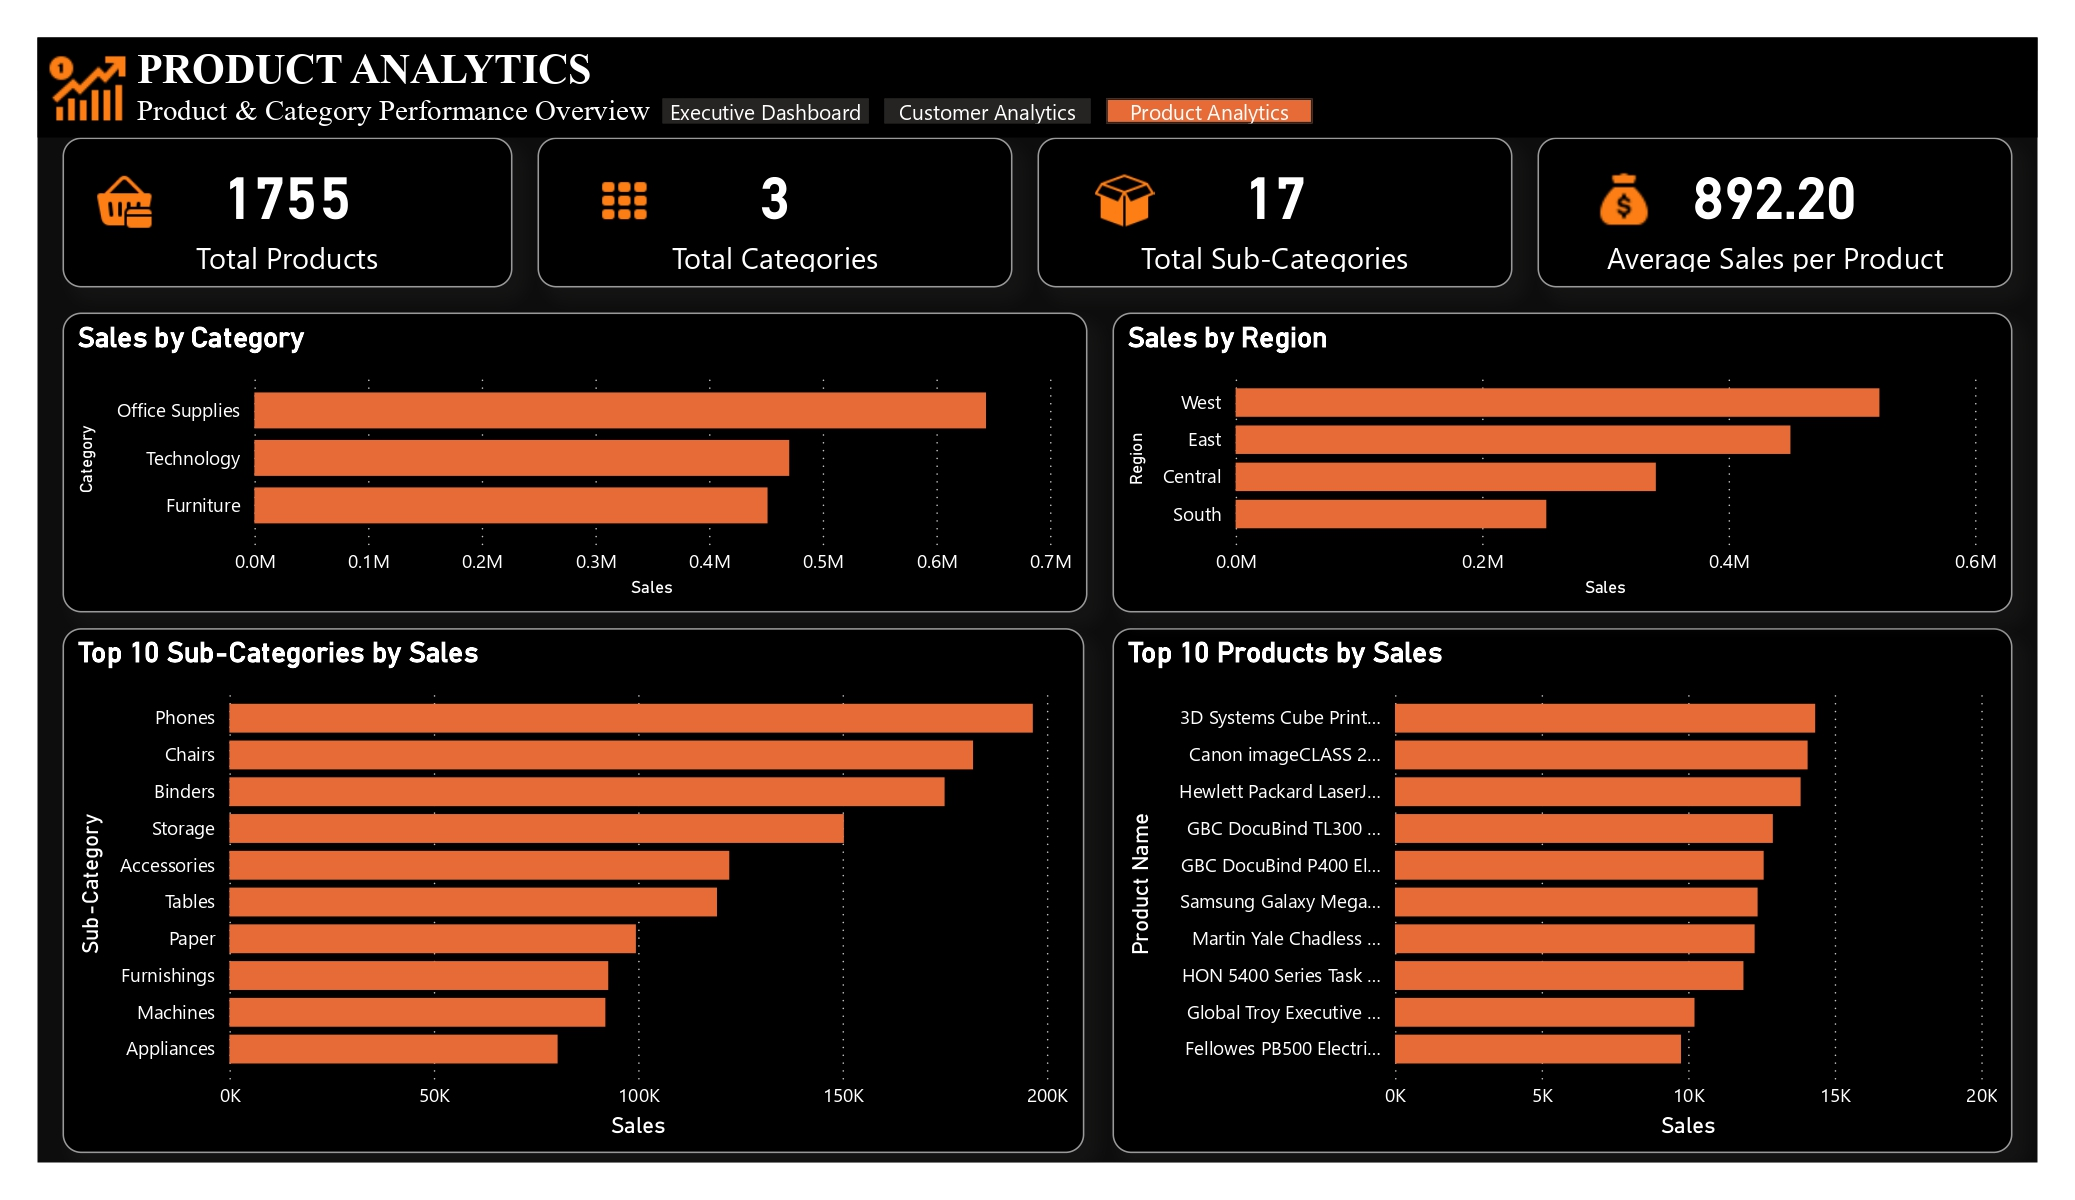

What the dashboard file says about the page in this screenshot:
{"tool":"powerbi","page":{"name":"Product Analytics","canvas":[1280,720],"ordinal":2},"visuals":[{"type":"card","fields":{"Values":["SuperStore_Sales_Dataset.Total Products"]},"box":[16,64,288,96],"z":0},{"type":"card","fields":{"Values":["SuperStore_Sales_Dataset.Total Categories"]},"box":[320,64,304,96],"z":1000},{"type":"card","fields":{"Values":["SuperStore_Sales_Dataset.Total Sub-Categories"]},"box":[640,64,304,96],"z":2000},{"type":"card","fields":{"Values":["SuperStore_Sales_Dataset.Average Sales per Product"]},"box":[960,64,304,96],"z":3000},{"type":"clusteredBarChart","title":"Sales by Category","fields":{"Category":["SuperStore_Sales_Dataset.Category"],"Y":["Sum(SuperStore_Sales_Dataset.Sales)"]},"box":[16,176,656,192],"z":4000},{"type":"clusteredBarChart","title":"Top 10 Sub-Categories by Sales","fields":{"Category":["SuperStore_Sales_Dataset.Sub-Category"],"Y":["Sum(SuperStore_Sales_Dataset.Sales)"]},"box":[16,378,654,336],"z":5000},{"type":"clusteredBarChart","title":"Top 10 Products by Sales","fields":{"Category":["SuperStore_Sales_Dataset.Product Name"],"Y":["Sum(SuperStore_Sales_Dataset.Sales)"]},"box":[688,378,576,336],"z":6000},{"type":"clusteredBarChart","title":"Sales by Region","fields":{"Category":["SuperStore_Sales_Dataset.Region"],"Y":["Sum(SuperStore_Sales_Dataset.Sales)"]},"box":[688,176,576,192],"z":7000},{"type":"textbox","box":[0,0,1280,64],"z":8000},{"type":"image","box":[32,80,48,48],"z":9000},{"type":"image","box":[352,80,48,48],"z":10000},{"type":"image","box":[672,80,48,48],"z":11000},{"type":"image","box":[992,80,48,48],"z":12000},{"type":"image","box":[0,0,64,64],"z":13000},{"type":"pageNavigator","box":[400,39,416,16],"z":13001}]}

Visuals, with their boxes on the page's 1280x720 design canvas (x1, y1, x2, y2). These are canvas units, not pixel positions in the 2075x1200 screenshot, which may show the page scaled, cropped or inside an application window:
card - SuperStore_Sales_Dataset.Total Products: x1=16, y1=64, x2=304, y2=160
card - SuperStore_Sales_Dataset.Total Categories: x1=320, y1=64, x2=624, y2=160
card - SuperStore_Sales_Dataset.Total Sub-Categories: x1=640, y1=64, x2=944, y2=160
card - SuperStore_Sales_Dataset.Average Sales per Product: x1=960, y1=64, x2=1264, y2=160
"Sales by Category" clusteredBarChart: x1=16, y1=176, x2=672, y2=368
"Top 10 Sub-Categories by Sales" clusteredBarChart: x1=16, y1=378, x2=670, y2=714
"Top 10 Products by Sales" clusteredBarChart: x1=688, y1=378, x2=1264, y2=714
"Sales by Region" clusteredBarChart: x1=688, y1=176, x2=1264, y2=368
textbox: x1=0, y1=0, x2=1280, y2=64
image: x1=32, y1=80, x2=80, y2=128
image: x1=352, y1=80, x2=400, y2=128
image: x1=672, y1=80, x2=720, y2=128
image: x1=992, y1=80, x2=1040, y2=128
image: x1=0, y1=0, x2=64, y2=64
pageNavigator: x1=400, y1=39, x2=816, y2=55
